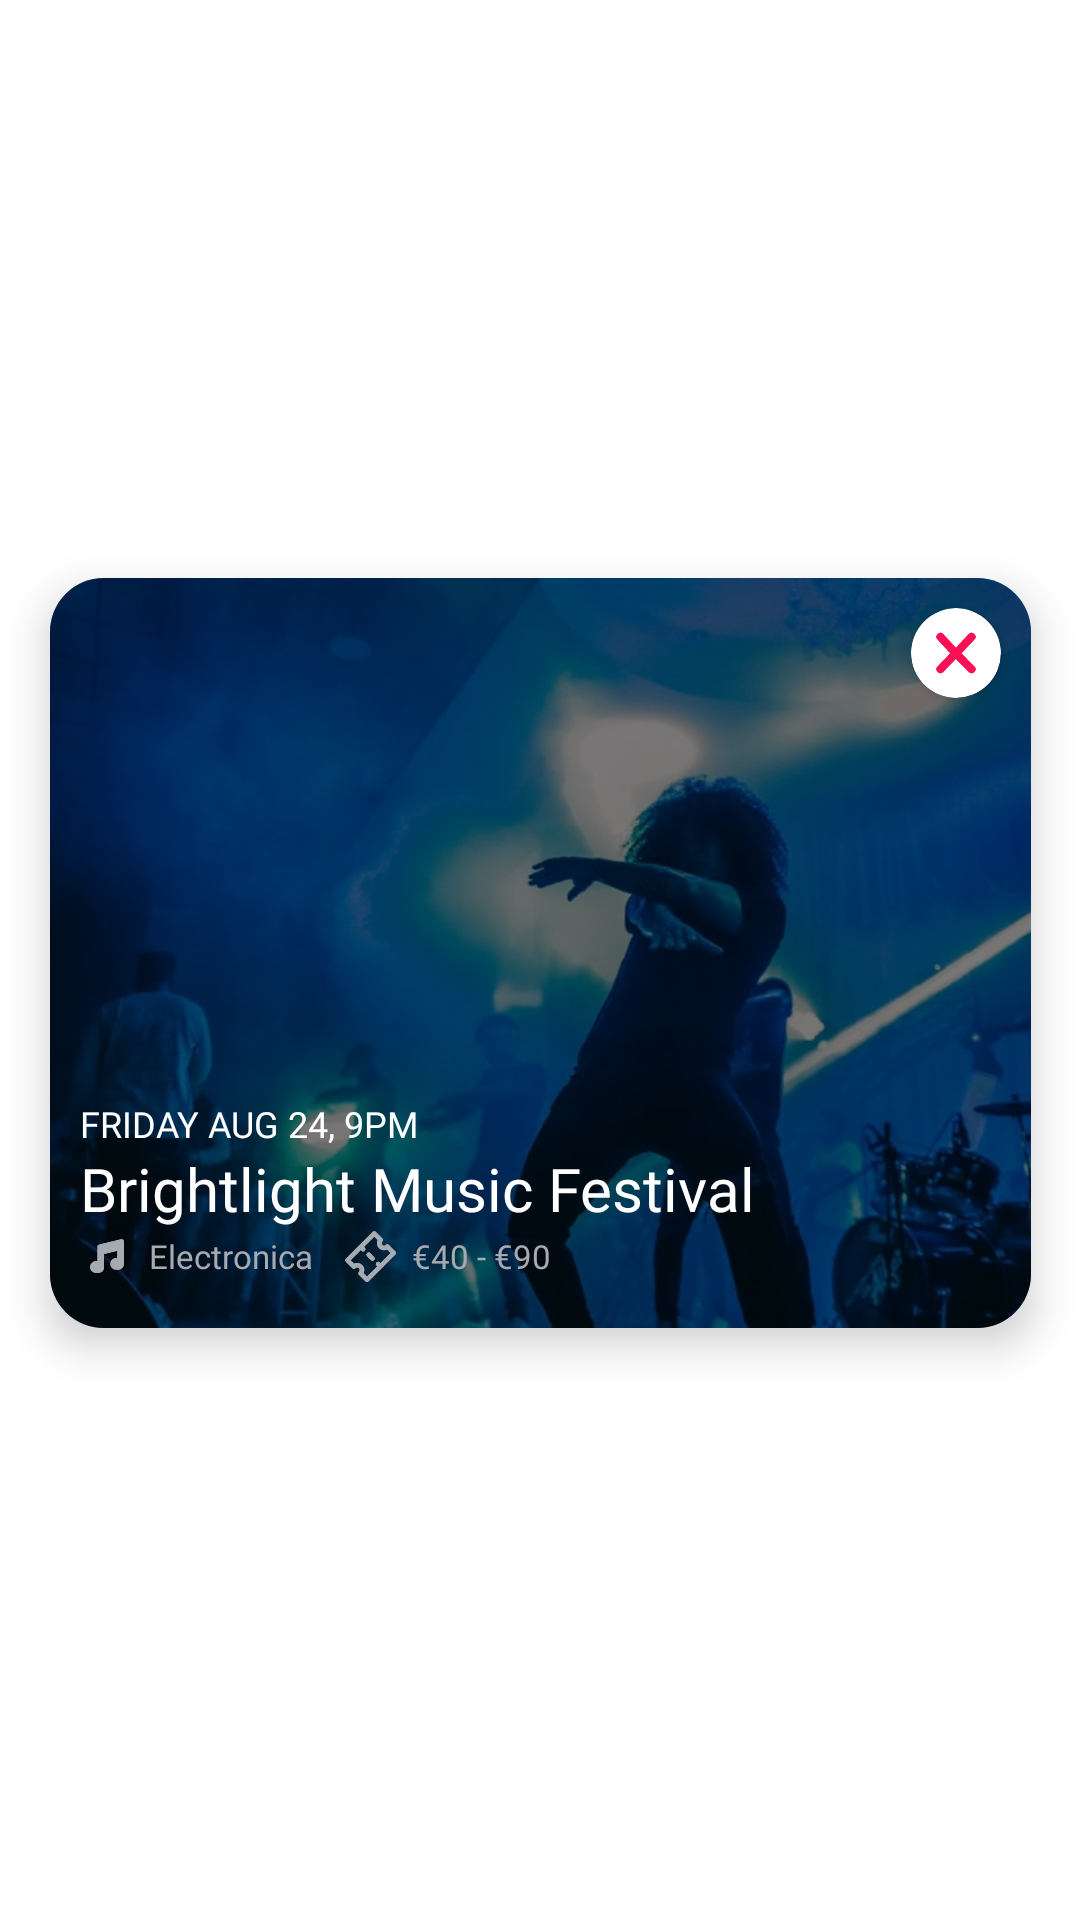

Named icons in this screenshot (1080 x 1920) and their centers, [x,y]:
bottom bar tickets: [370,1256]
misc cancel: [956,653]
tags music: [107,1256]
